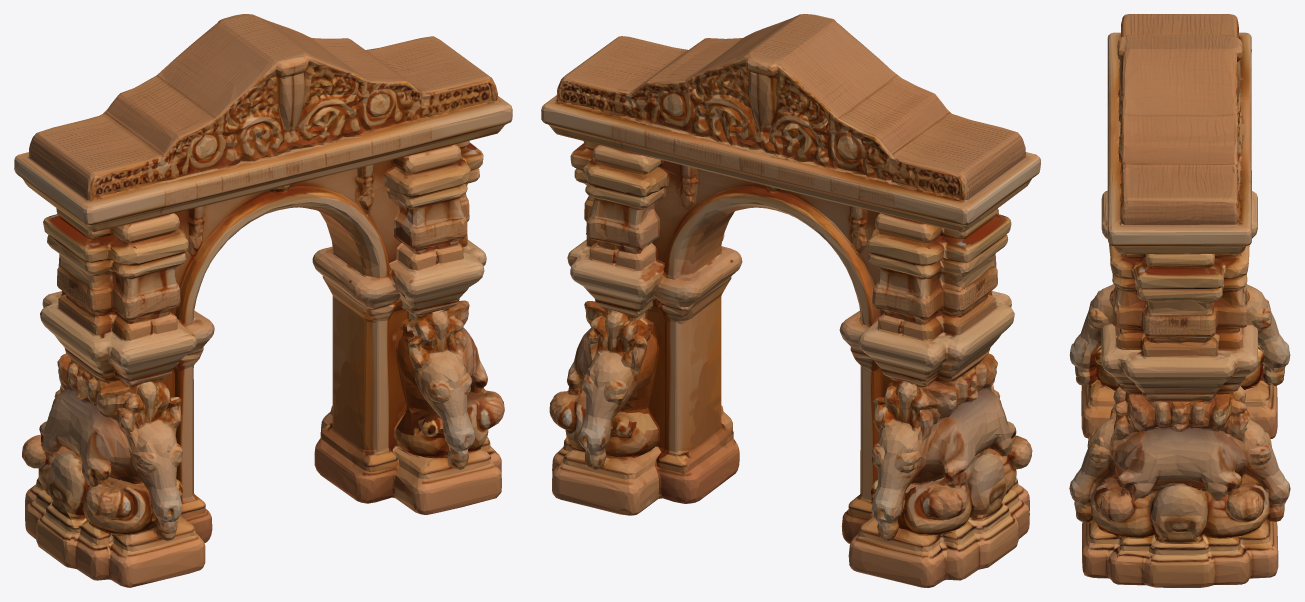
Rendered from carved-sandstone-torana-archway-optimized.glb.
3 views of the same model, side by side, from view 1: azimuth 30°, elevation 25°; view 2: azimuth 150°, elevation 25°; view 3: azimuth 270°, elevation 25° (orthographic). The views are drawn at different scales.
Visible parts, largest first — view 1: 58b71cc6-f61e-4ab8-9389-944864bab352_texturing.obj; view 2: 58b71cc6-f61e-4ab8-9389-944864bab352_texturing.obj; view 3: 58b71cc6-f61e-4ab8-9389-944864bab352_texturing.obj.
Boxes of the visible parts, box(x1,y1,x2,y2) form: 58b71cc6-f61e-4ab8-9389-944864bab352_texturing.obj: box(14, 14, 512, 587); 58b71cc6-f61e-4ab8-9389-944864bab352_texturing.obj: box(541, 14, 1040, 587); 58b71cc6-f61e-4ab8-9389-944864bab352_texturing.obj: box(1069, 14, 1290, 587).
Size of the model in its own units: 3.62 by 3.8 by 1.69.
Materials: 1 (1 with a texture image).
